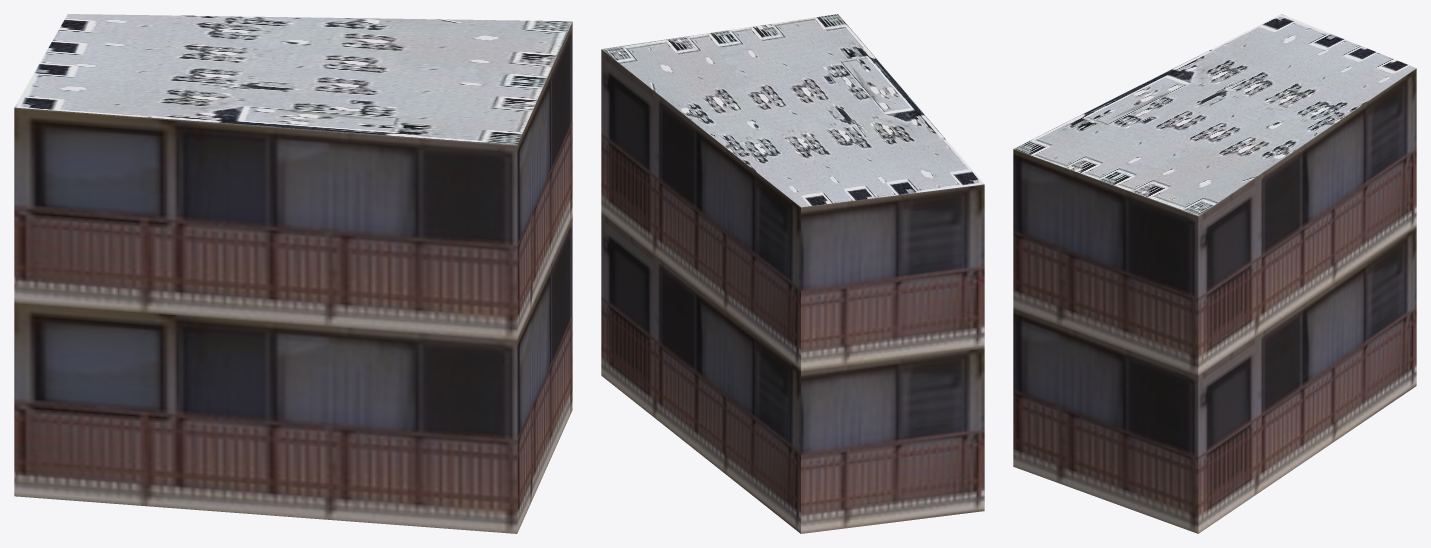
Rendered from ResTex__3510.fbx.
3 views of the same model, side by side, from view 1: azimuth 30°, elevation 25°; view 2: azimuth 150°, elevation 25°; view 3: azimuth 270°, elevation 25° (orthographic). The views are drawn at different scales.
Parts seen in each view (by area): view 1: CityEngineMaterial_6_m, CityEngineMaterial_4_m; view 2: CityEngineMaterial_6_m, CityEngineMaterial_4_m; view 3: CityEngineMaterial_6_m, CityEngineMaterial_4_m.
Part boxes in pixels (x1,y1,x2,y2): CityEngineMaterial_6_m: (14,22,572,533); CityEngineMaterial_4_m: (14,14,572,145); CityEngineMaterial_6_m: (601,49,984,533); CityEngineMaterial_4_m: (601,14,984,207); CityEngineMaterial_6_m: (1013,68,1416,533); CityEngineMaterial_4_m: (1014,14,1416,215).
Bounding box in the file's own units: 8.19 × 6 × 6.91.
Materials: 2 (2 with a texture image).
